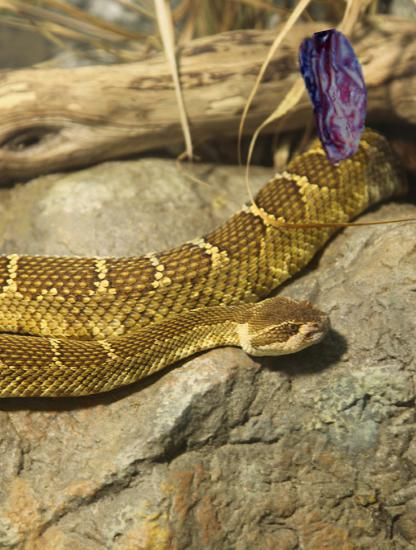Dates: (270, 30, 404, 164)
